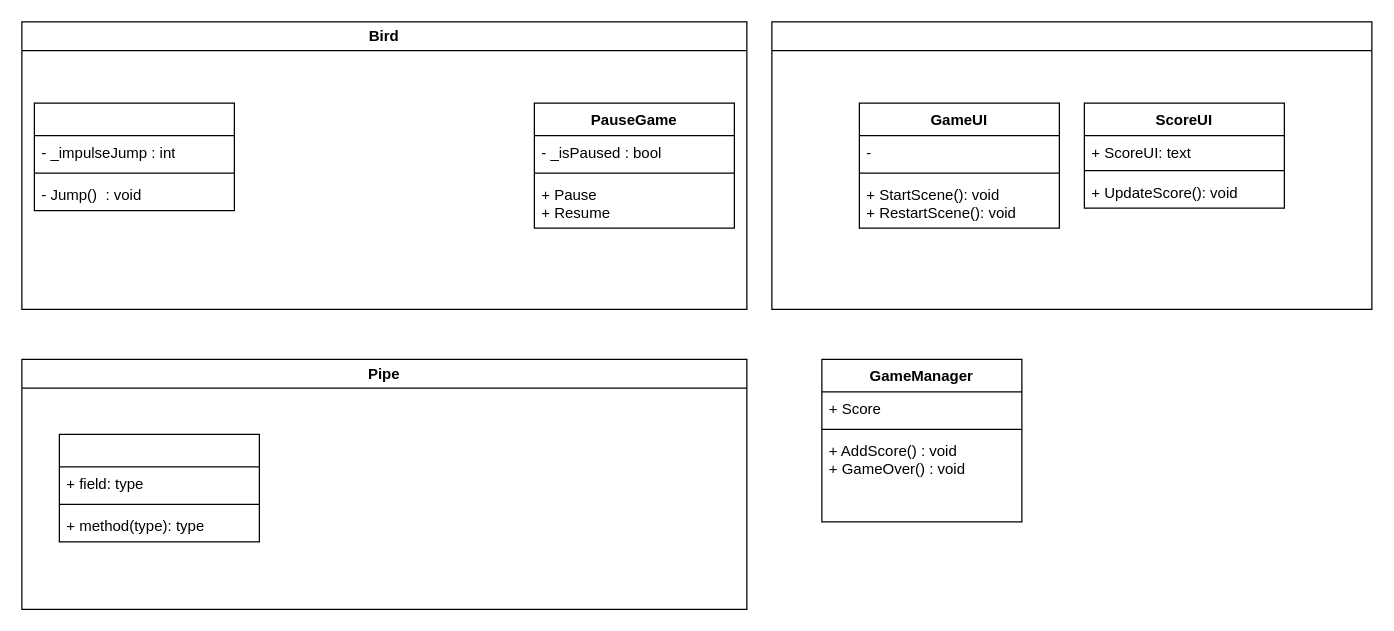
This 1394x631 diagram has some shape labels left out. Here are the shapes that lost their labels. From the top down, the box of each, then its label:
(33, 102, 234, 211): BirdJump
(771, 21, 1372, 309): UI
(58, 433, 259, 542): PipeSpawn
